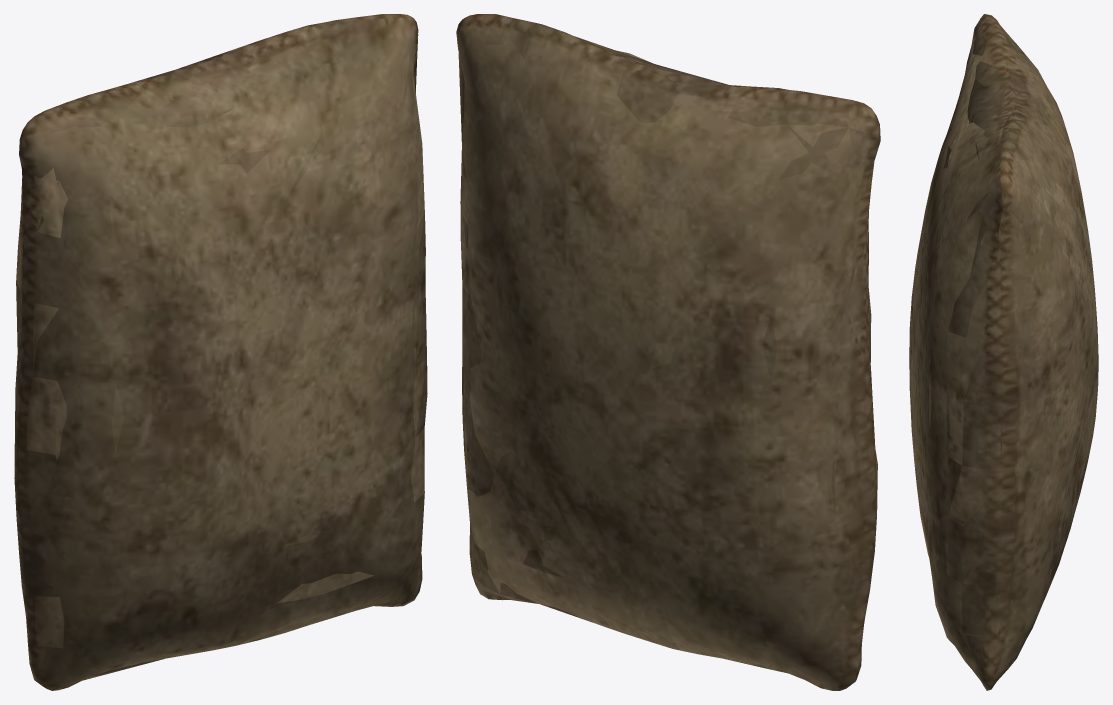
The model's file is SackFullB.glb.
The picture shows the model from 3 angles, left to right: view 1: azimuth 30°, elevation 25°; view 2: azimuth 150°, elevation 25°; view 3: azimuth 270°, elevation 25°; orthographic projection. The views are drawn at different scales.
Visible parts, largest first — view 1: SackFullB; view 2: SackFullB; view 3: SackFullB.
Boxes of the visible parts, <box> form: SackFullB: <box>14,14,427,690</box>; SackFullB: <box>456,14,880,690</box>; SackFullB: <box>909,14,1098,690</box>.
Bounding box in the file's own units: 0.629 × 0.8758 × 0.284.
Materials: 1 (1 with a texture image).
